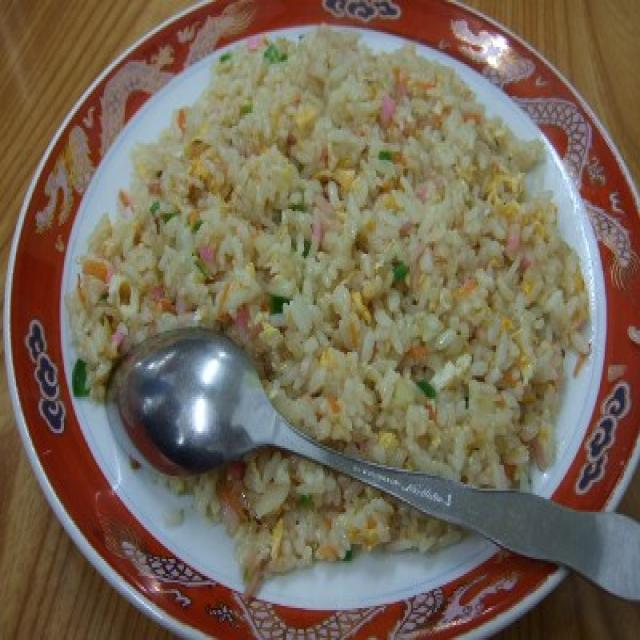米饭主食: (115, 55, 560, 540)
